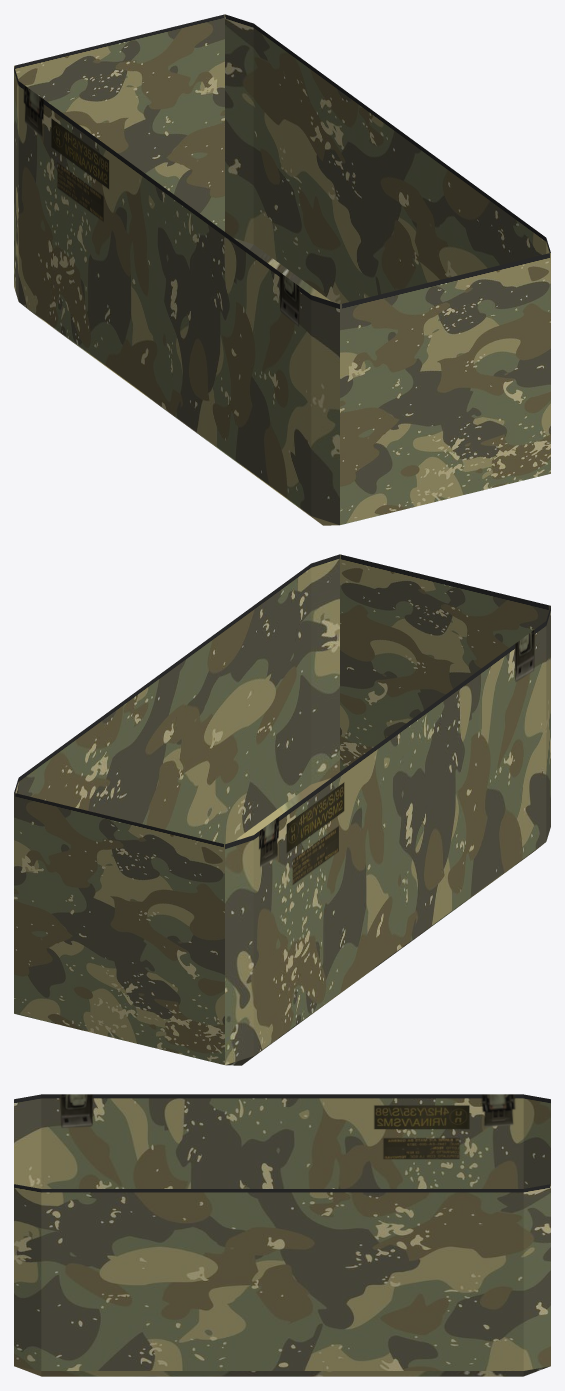
The model's file is chest-top-gone.glb.
The picture shows the model from 3 angles, top to bottom: view 1: azimuth 30°, elevation 25°; view 2: azimuth 150°, elevation 25°; view 3: azimuth 270°, elevation 25°; orthographic projection. The views are drawn at different scales.
Parts seen in each view (by area): view 1: chest; view 2: chest; view 3: chest.
Boxes of the visible parts, left/top/right/bottom form: chest: left=14, top=14, right=550, bottom=525; chest: left=14, top=554, right=550, bottom=1065; chest: left=14, top=1094, right=550, bottom=1376.
Size of the model in its own units: 1 by 0.9488 by 2.4.
1 material, 1 textured.
